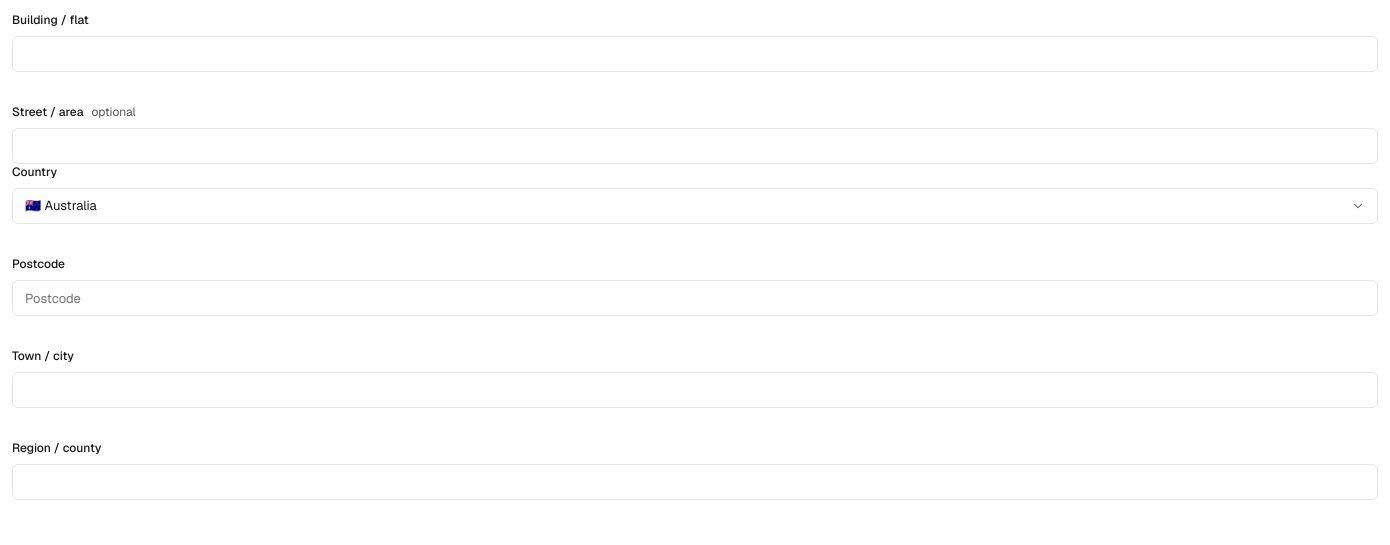
Test: AddressFields, a postcode with no single town › takes the offer back when the postcode changes
The image size is (1390, 545).
In the field labelled "Postcode": (695, 298) x1=12 y1=280 x2=1378 y2=316, type "2155"
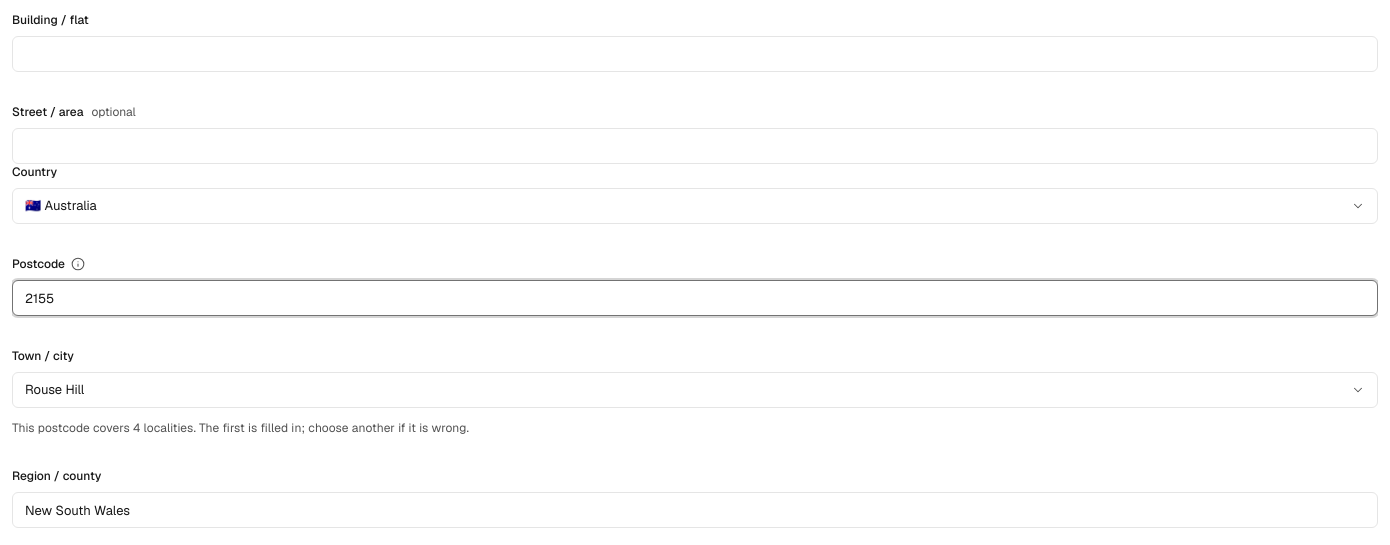
Replace the text in the field labelled "Postcode" with "2000": (695, 298) x1=12 y1=280 x2=1378 y2=316
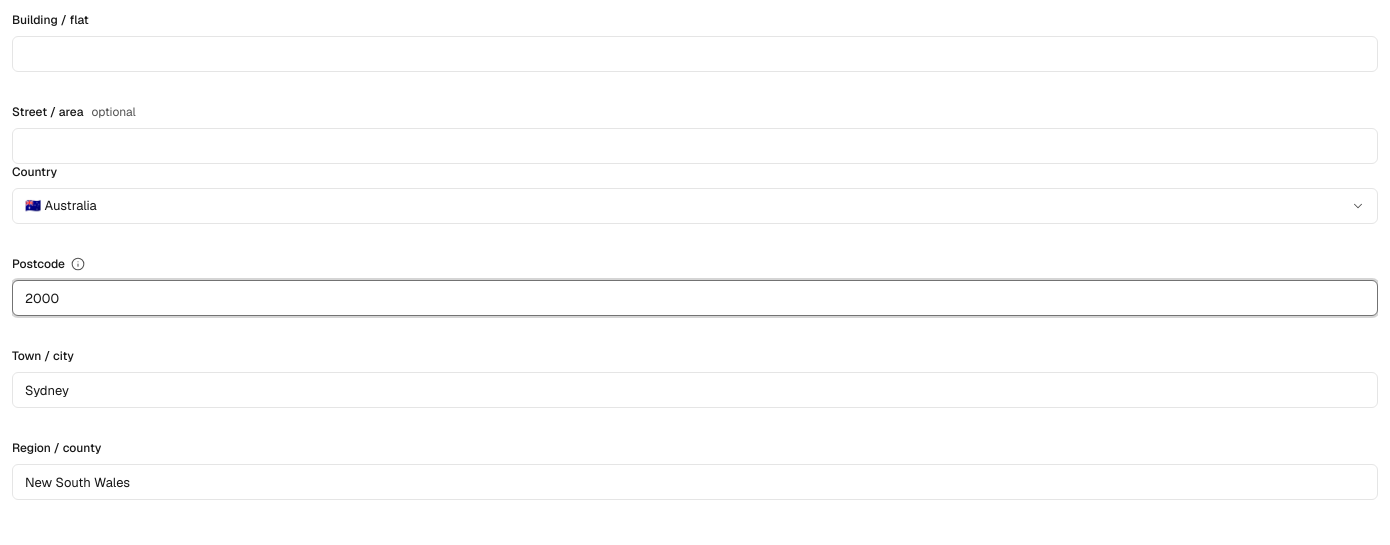
Expected: the button "Rouse Hill" is not shown
Expected: the field labelled "Town / city" holds "Sydney", x1=12 y1=372 x2=1378 y2=408
